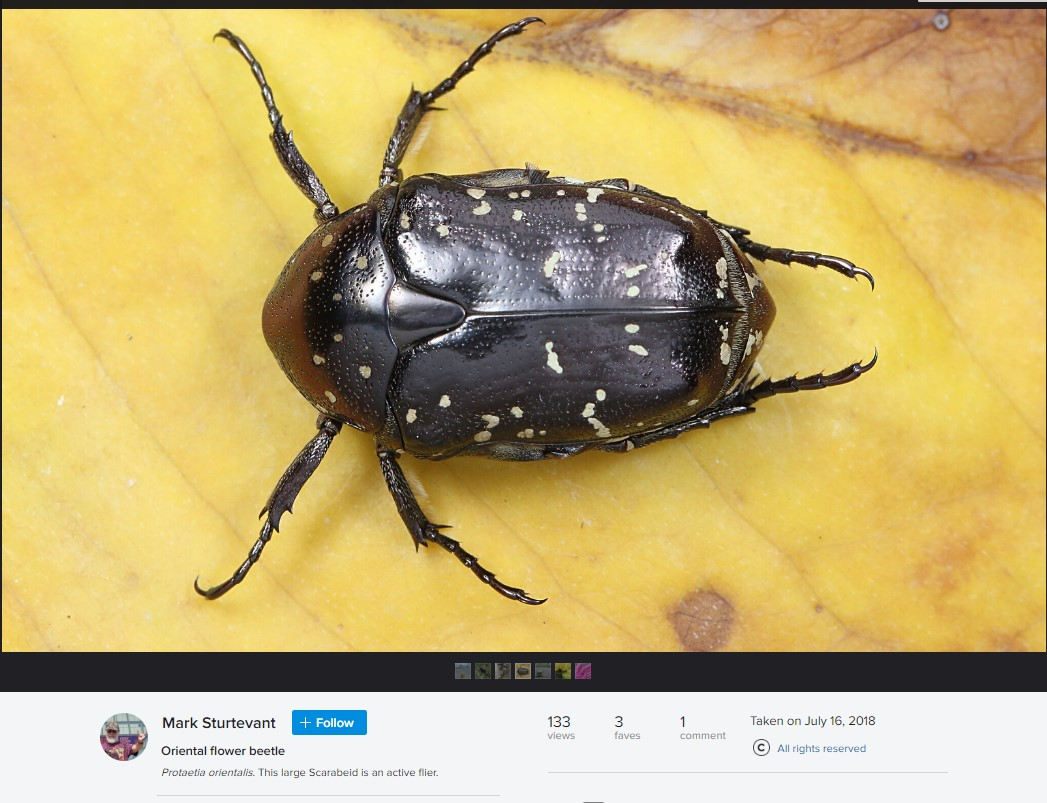Protaetia _orientalis: (162, 16, 889, 616)
